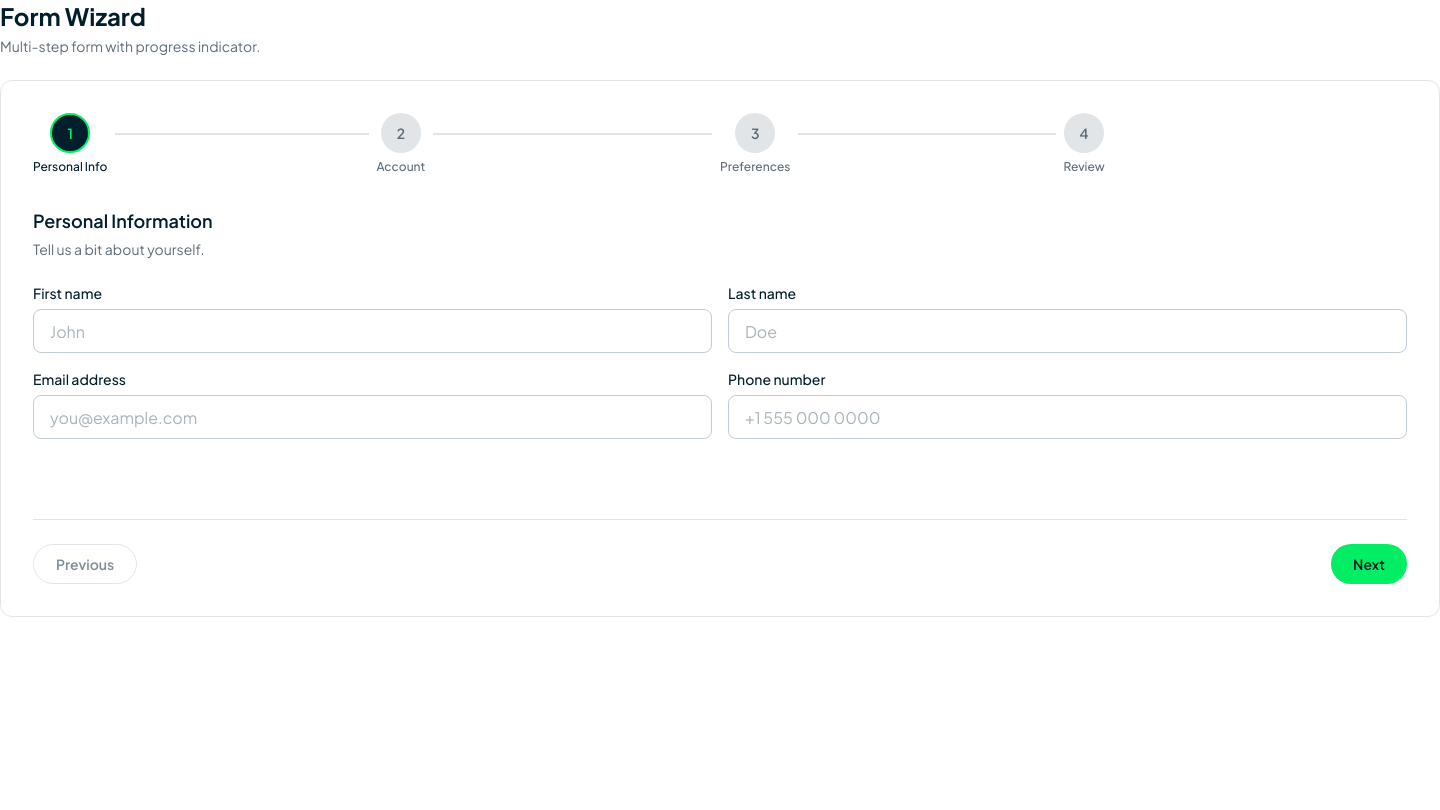
it: WizardPage › shows submit button on last step
The image size is (1440, 810).
Step 1. Click the button "Next" → (1369, 564), box [1331,544,1407,584]
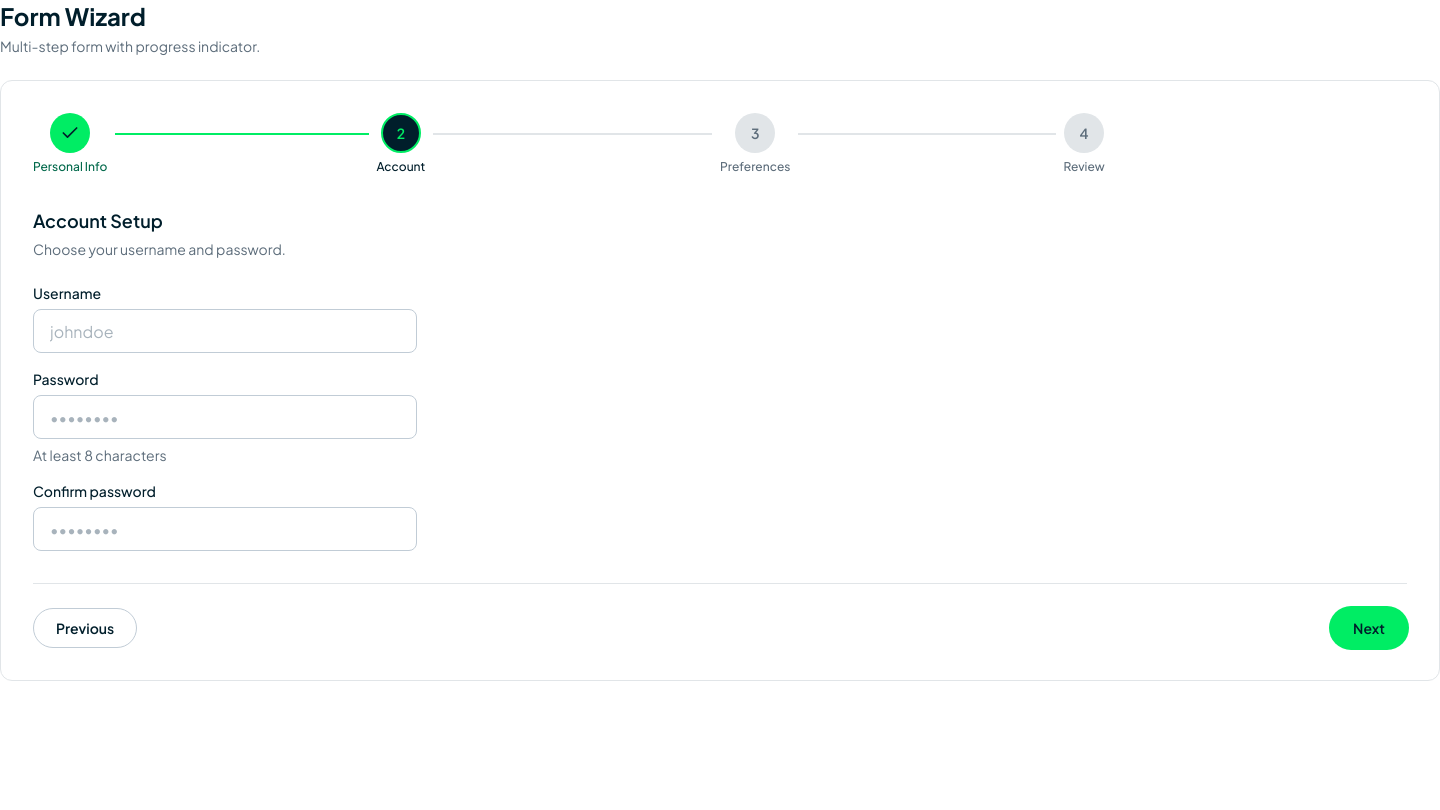
Step 2. Click the button "Next" → (1369, 628), box [1331,608,1407,648]
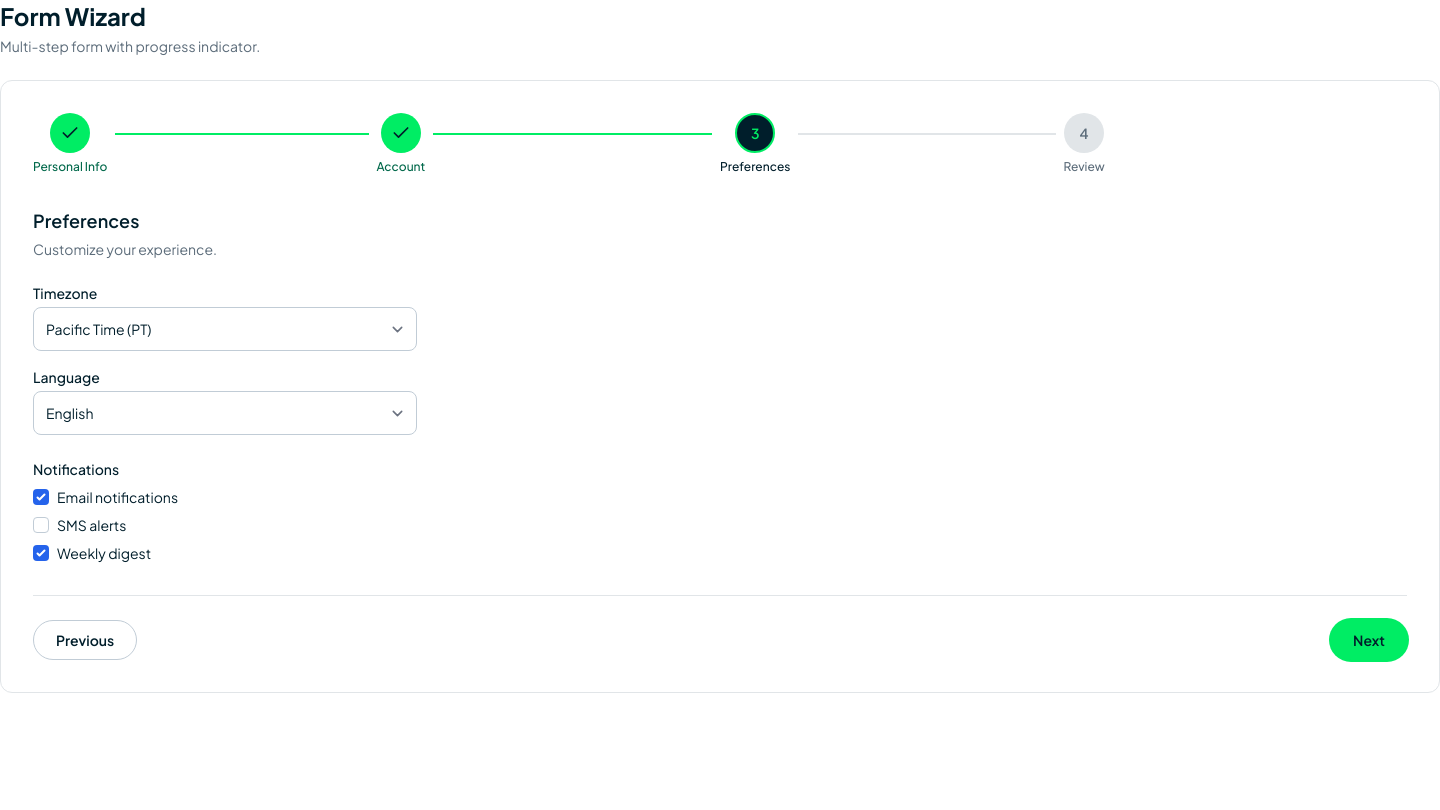
Step 3. Click the button "Next" → (1369, 640), box [1331,620,1407,660]
(page scrolled)
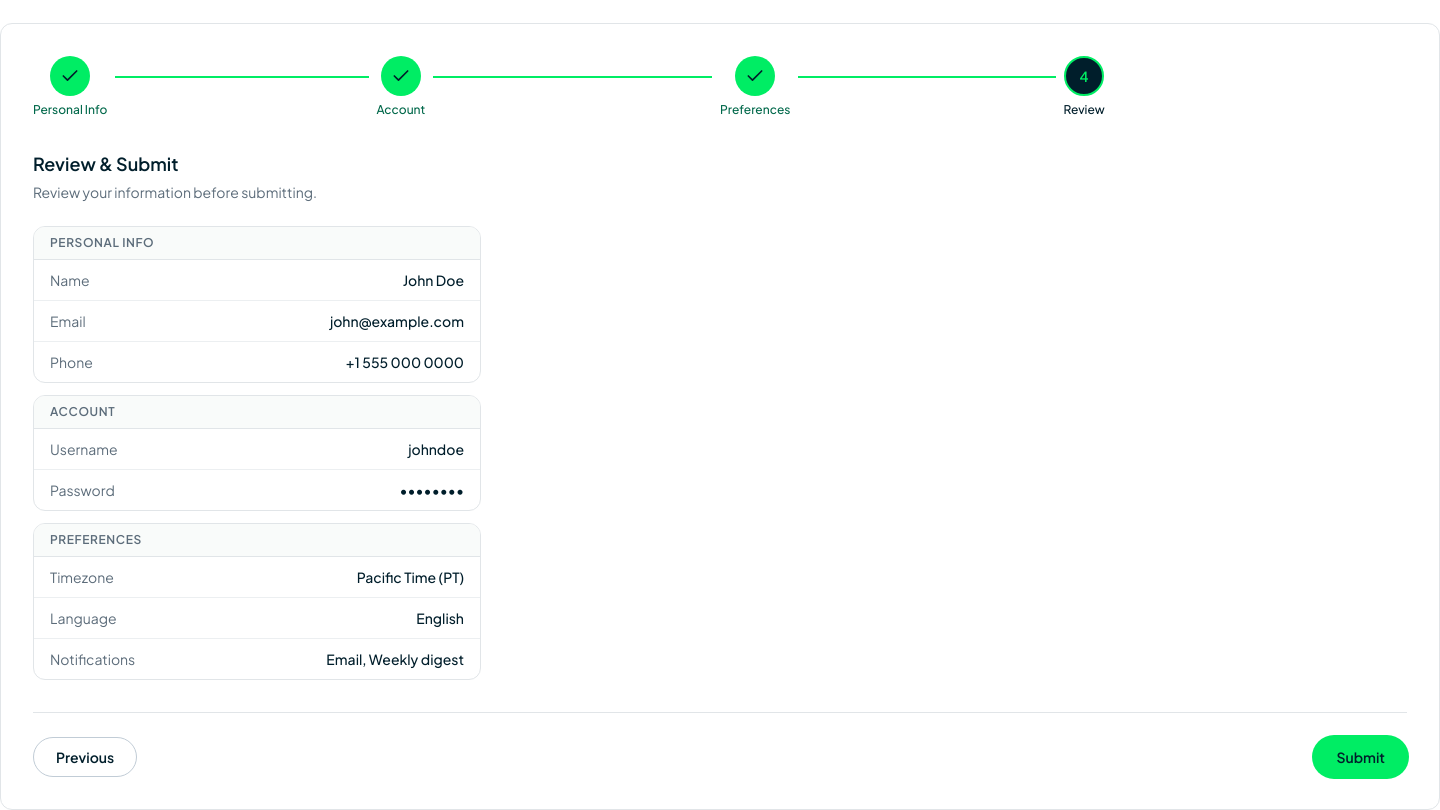
Expected: the button "Submit" is shown, [1314,737,1407,777]
